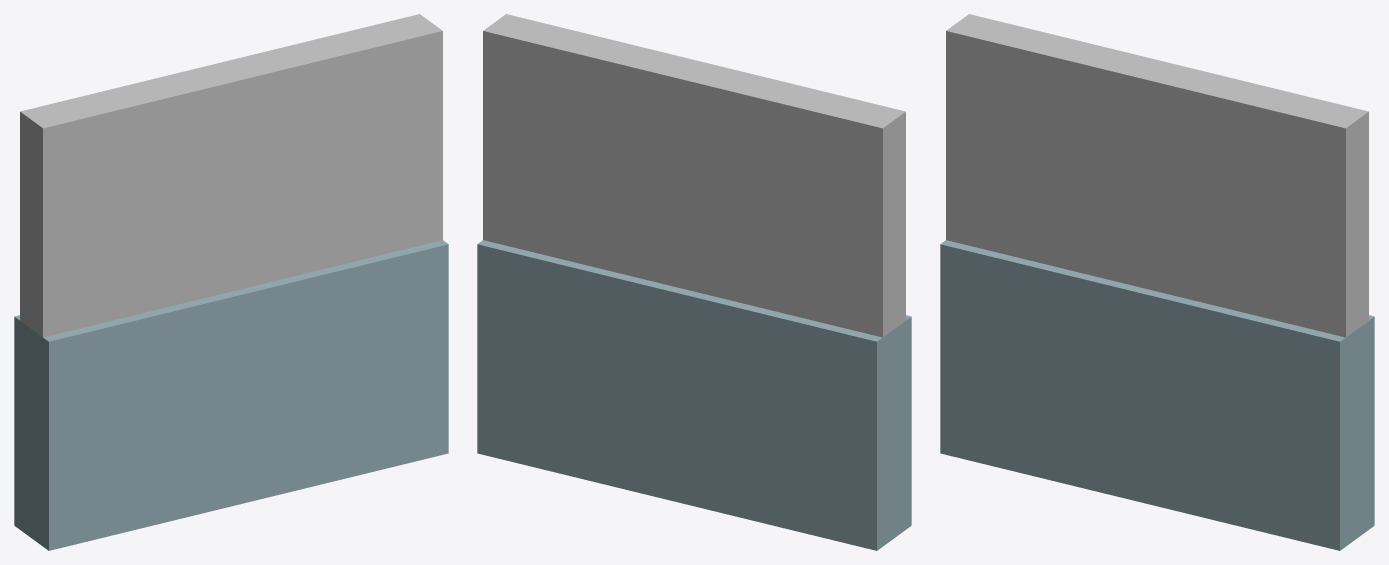
The model's file is Office-Room-2-Wall-4.fbx.
3 views of the same model, side by side, from view 1: azimuth 30°, elevation 25°; view 2: azimuth 150°, elevation 25°; view 3: azimuth 330°, elevation 25° (orthographic).
Parts seen in each view (by area): view 1: Office-Door-2-Wall-4; view 2: Office-Door-2-Wall-4; view 3: Office-Door-2-Wall-4.
Part boxes in pixels (left/top/right/bottom): Office-Door-2-Wall-4: left=14, top=14, right=448, bottom=550; Office-Door-2-Wall-4: left=477, top=14, right=911, bottom=550; Office-Door-2-Wall-4: left=940, top=14, right=1374, bottom=550.
Bounding box in the file's own units: 2 × 2 × 0.3.
